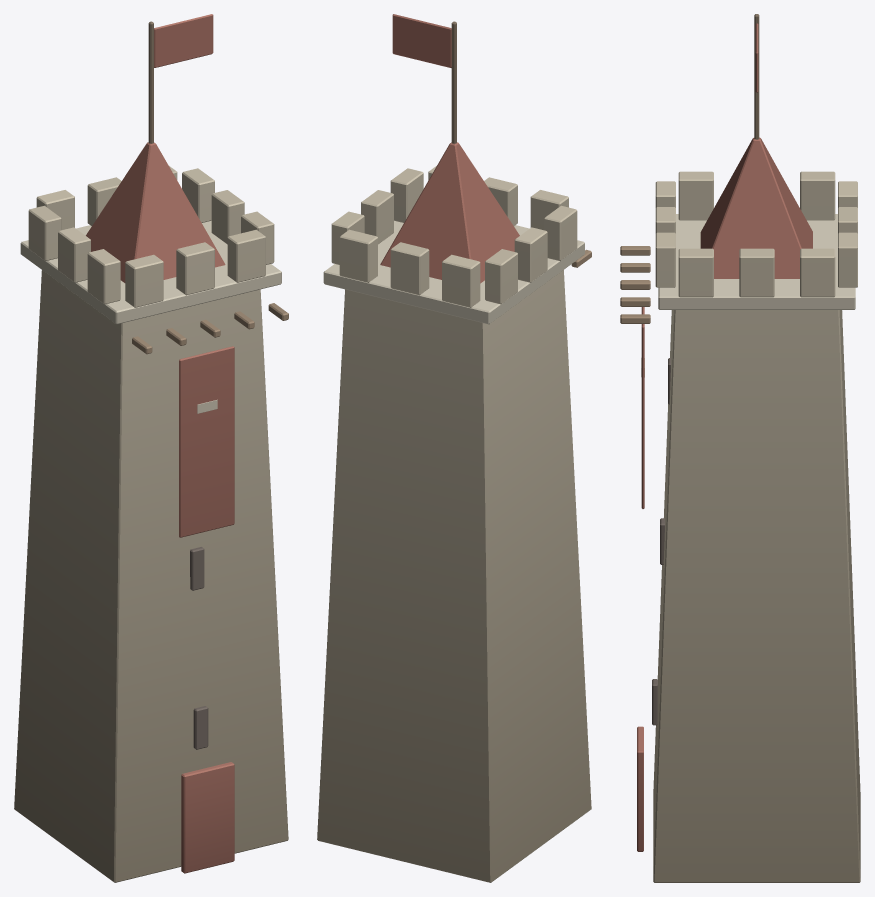
Rendered from iv_landmark.glb.
3 views of the same model, side by side, from view 1: azimuth 30°, elevation 25°; view 2: azimuth 150°, elevation 25°; view 3: azimuth 270°, elevation 25° (orthographic). The views are drawn at different scales.
Visible parts, largest first — view 1: iv_landmark; view 2: iv_landmark; view 3: iv_landmark.
Part boxes in pixels (x1,y1,x2,y2): iv_landmark: (14,14,288,882); iv_landmark: (317,14,591,882); iv_landmark: (620,14,860,882).
Size of the model in its own units: 4.1 by 18 by 4.75.
